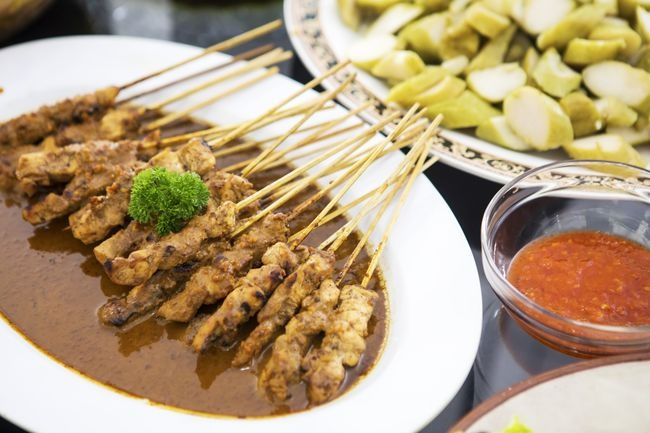sate_madura: (1, 60, 427, 399)
